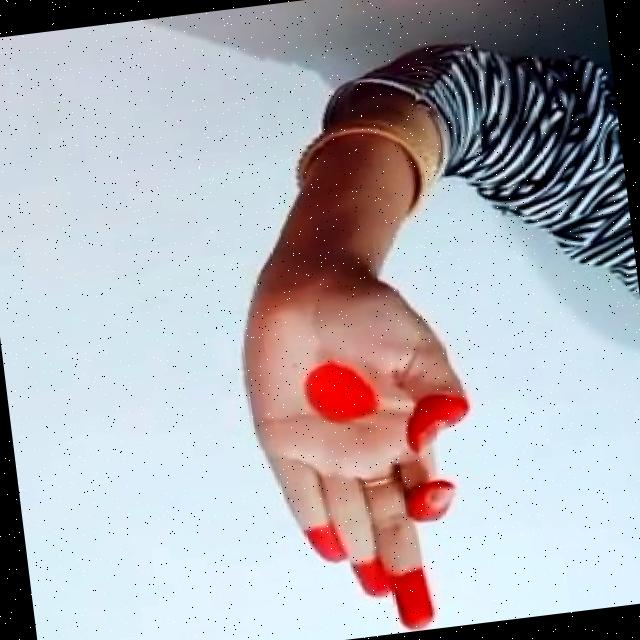Arala: (186, 249, 541, 640)
bangle: (282, 102, 458, 236)
